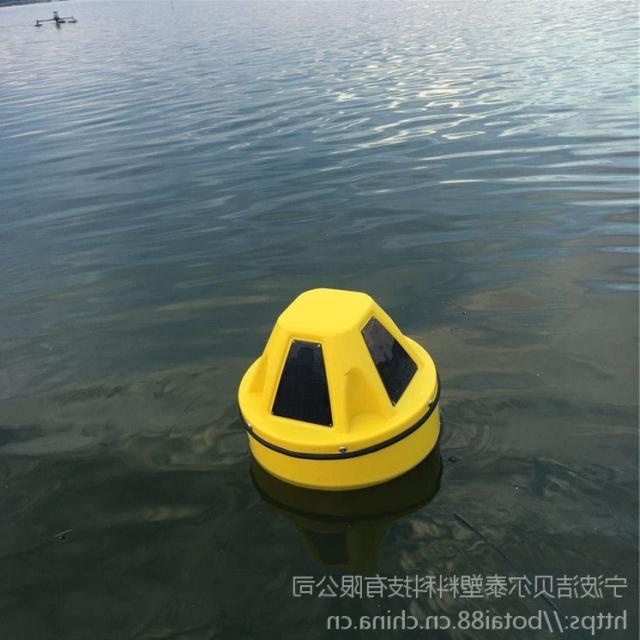buoy: (235, 285, 446, 493)
